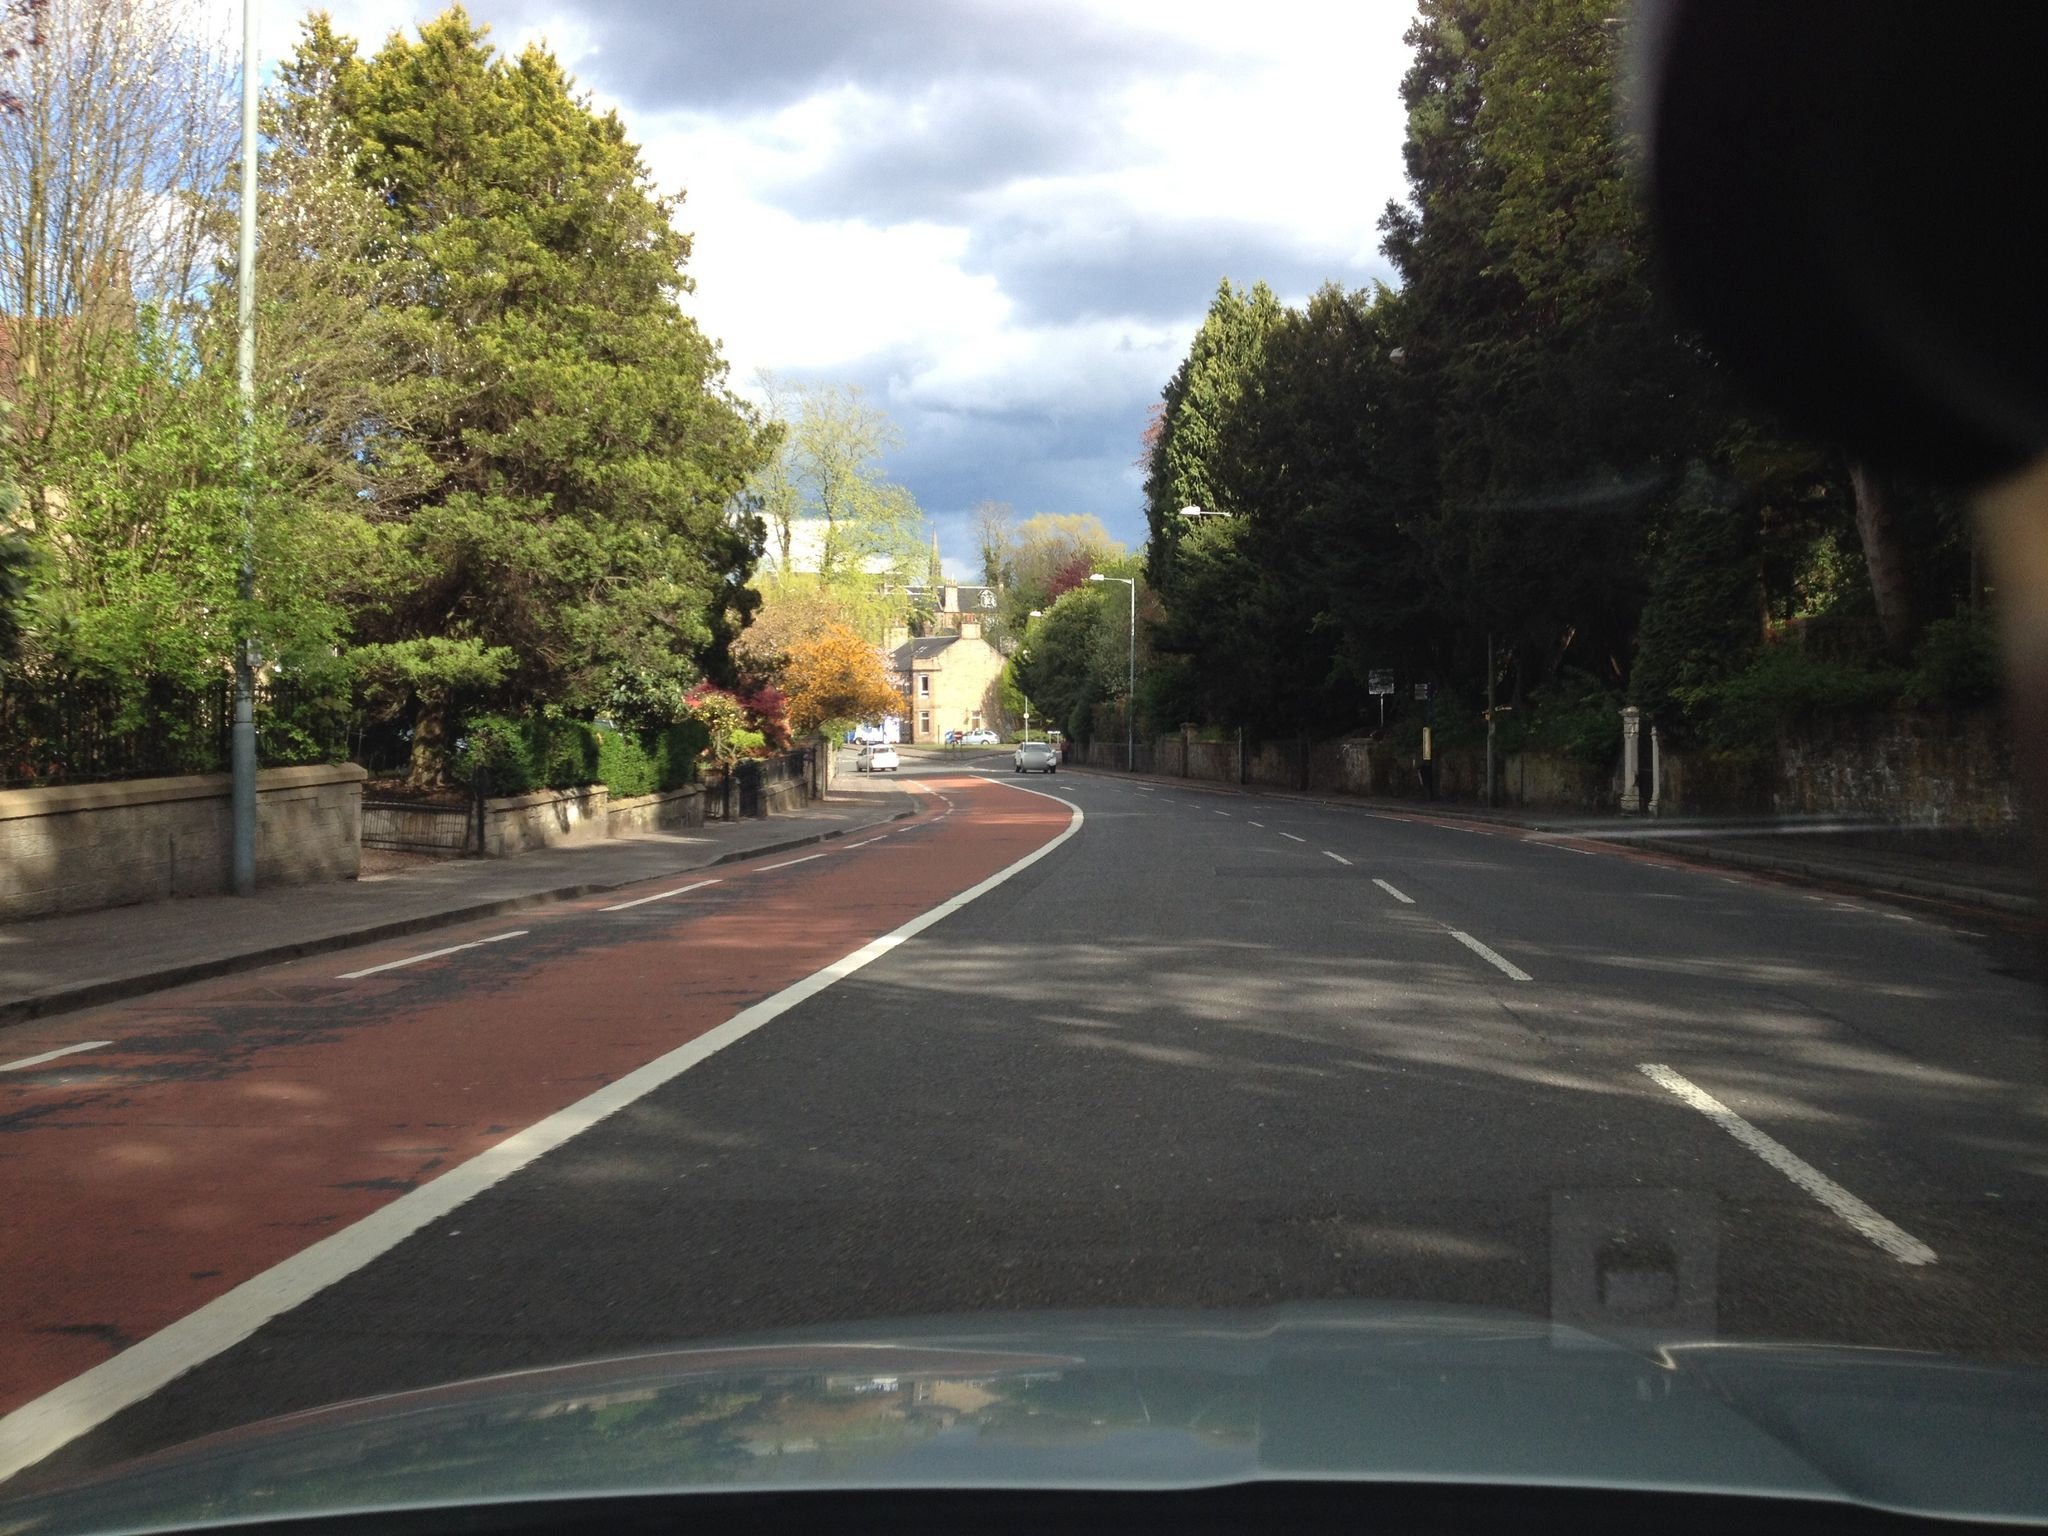car: (1013, 741, 1056, 773), (856, 745, 898, 770), (945, 729, 1000, 745)
